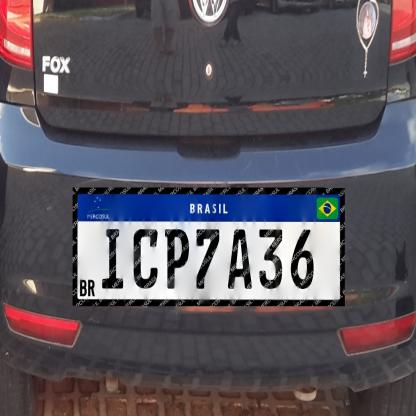PlacaM: (73, 188, 344, 306)
